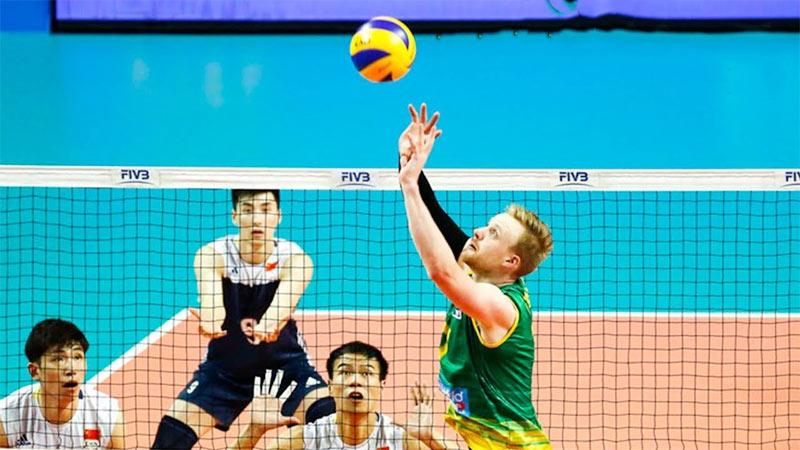ballon_volley: (349, 15, 417, 84)
